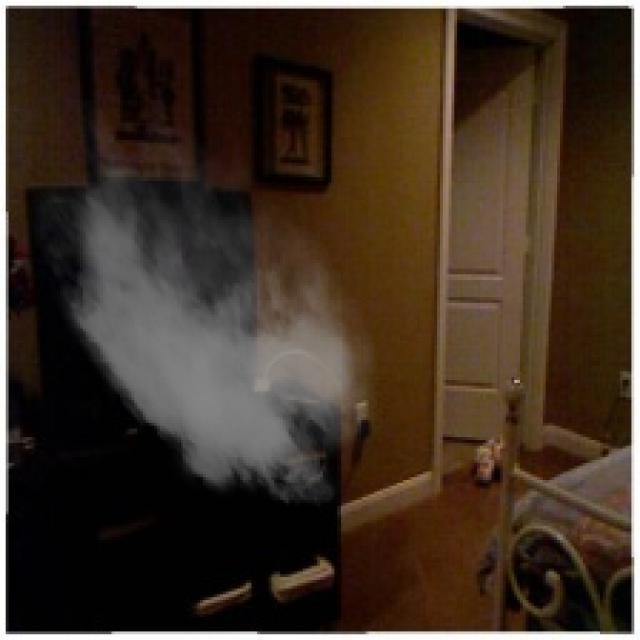Smoke: (26, 100, 394, 520)
